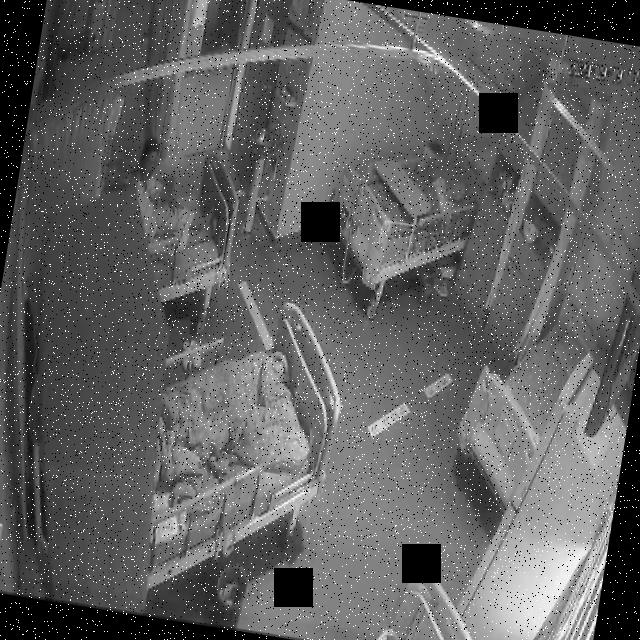bed: (136, 293, 350, 582), (323, 120, 488, 292), (462, 286, 596, 480), (132, 140, 250, 308)
patient: (125, 133, 228, 262), (420, 170, 470, 220)
sit: (124, 133, 230, 261)
